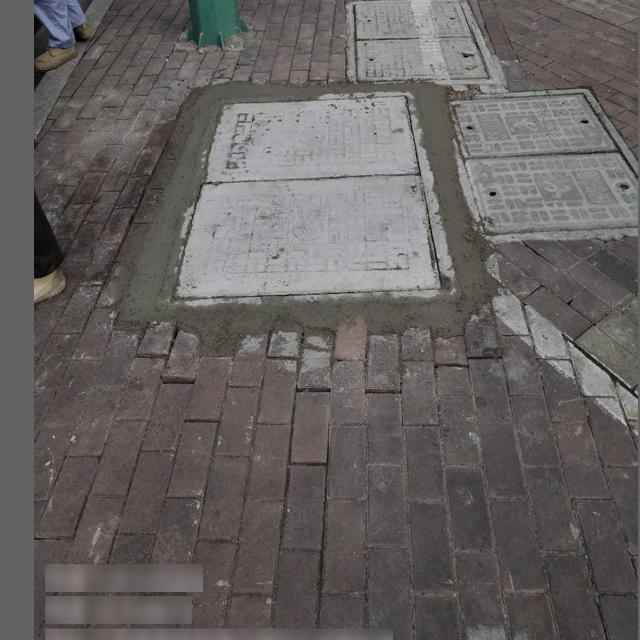good: (156, 89, 459, 306), (442, 85, 638, 243), (343, 0, 503, 90)
